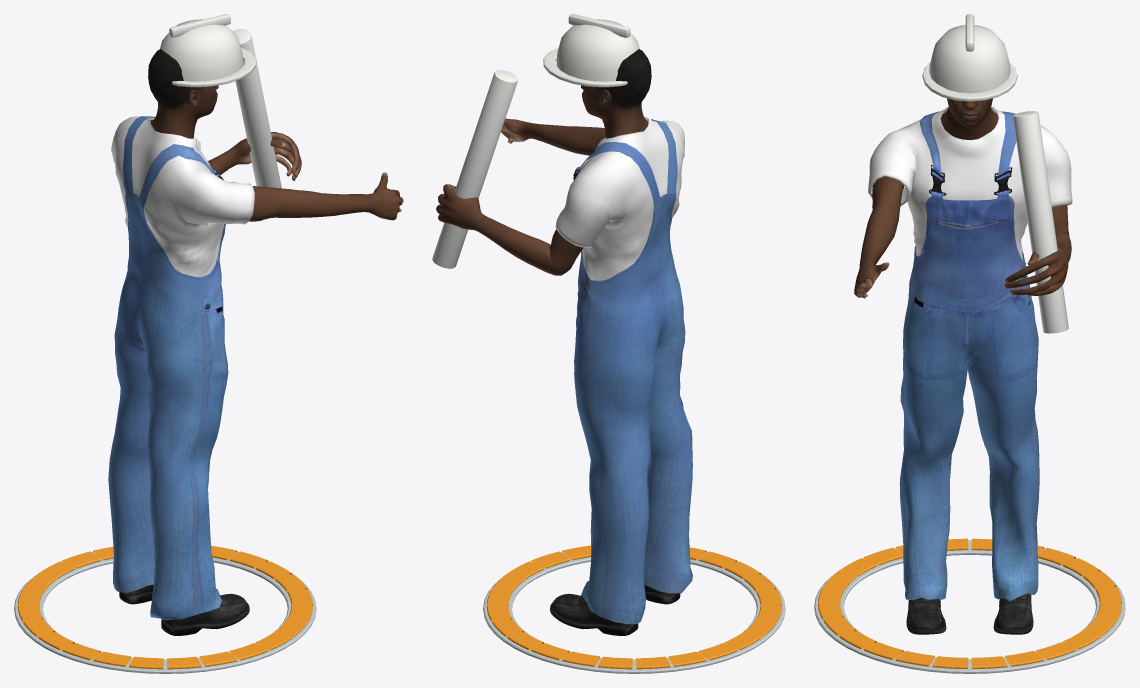
File: MDO-TEC-002.glb
The picture shows the model from 3 angles, left to right: view 1: azimuth 30°, elevation 25°; view 2: azimuth 150°, elevation 25°; view 3: azimuth 270°, elevation 25°; orthographic projection. The views are drawn at different scales.
Parts seen in each view (by area): view 1: MDO-TEC-002_pessoa_male_worksuit01, MDO-TEC-002_pessoa, MDO-TEC-002_capacete, MDO-TEC-002_anel_fundo, MDO-TEC-002_ferE_planta, MDO-TEC-002_pessoa_shoes04, MDO-TEC-002_capacete_aba, MDO-TEC-002_capacete_friso; view 2: MDO-TEC-002_pessoa_male_worksuit01, MDO-TEC-002_pessoa, MDO-TEC-002_ferE_planta, MDO-TEC-002_capacete, MDO-TEC-002_anel_fundo, MDO-TEC-002_pessoa_shoes04, MDO-TEC-002_capacete_aba, MDO-TEC-002_capacete_friso; view 3: MDO-TEC-002_pessoa_male_worksuit01, MDO-TEC-002_pessoa, MDO-TEC-002_ferE_planta, MDO-TEC-002_capacete, MDO-TEC-002_anel_fundo, MDO-TEC-002_pessoa_shoes04, MDO-TEC-002_capacete_aba.
Boxes of the visible parts, x1,y1,x2,y2 form: MDO-TEC-002_pessoa_male_worksuit01: (108,116,254,620); MDO-TEC-002_pessoa: (148,49,403,221); MDO-TEC-002_capacete: (160,19,242,81); MDO-TEC-002_anel_fundo: (14,551,316,673); MDO-TEC-002_ferE_planta: (232,28,281,188); MDO-TEC-002_pessoa_shoes04: (119,584,249,635); MDO-TEC-002_capacete_aba: (172,47,256,87); MDO-TEC-002_capacete_friso: (169,14,230,37); MDO-TEC-002_pessoa_male_worksuit01: (555,117,692,624); MDO-TEC-002_pessoa: (436,49,651,275); MDO-TEC-002_ferE_planta: (432,70,517,268); MDO-TEC-002_capacete: (556,19,639,81); MDO-TEC-002_anel_fundo: (483,552,785,673); MDO-TEC-002_pessoa_shoes04: (550,578,680,635); MDO-TEC-002_capacete_aba: (543,47,627,87); MDO-TEC-002_capacete_friso: (568,14,630,37); MDO-TEC-002_pessoa_male_worksuit01: (868,107,1072,600); MDO-TEC-002_pessoa: (854,98,1071,298); MDO-TEC-002_ferE_planta: (1013,111,1068,333); MDO-TEC-002_capacete: (929,25,1010,93); MDO-TEC-002_anel_fundo: (814,540,1125,673); MDO-TEC-002_pessoa_shoes04: (906,593,1033,634); MDO-TEC-002_capacete_aba: (922,62,1017,101).
Size of the model in its own units: 1.02 by 1.79 by 0.84.
9 materials, 5 textured.
